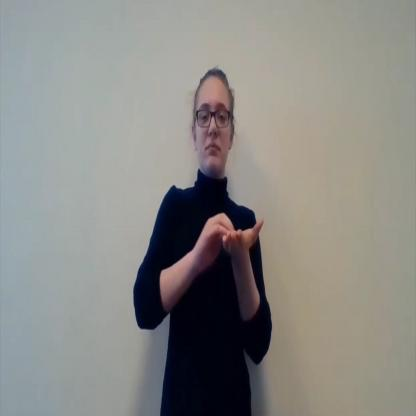ExcuseMe: (132, 56, 275, 414)
